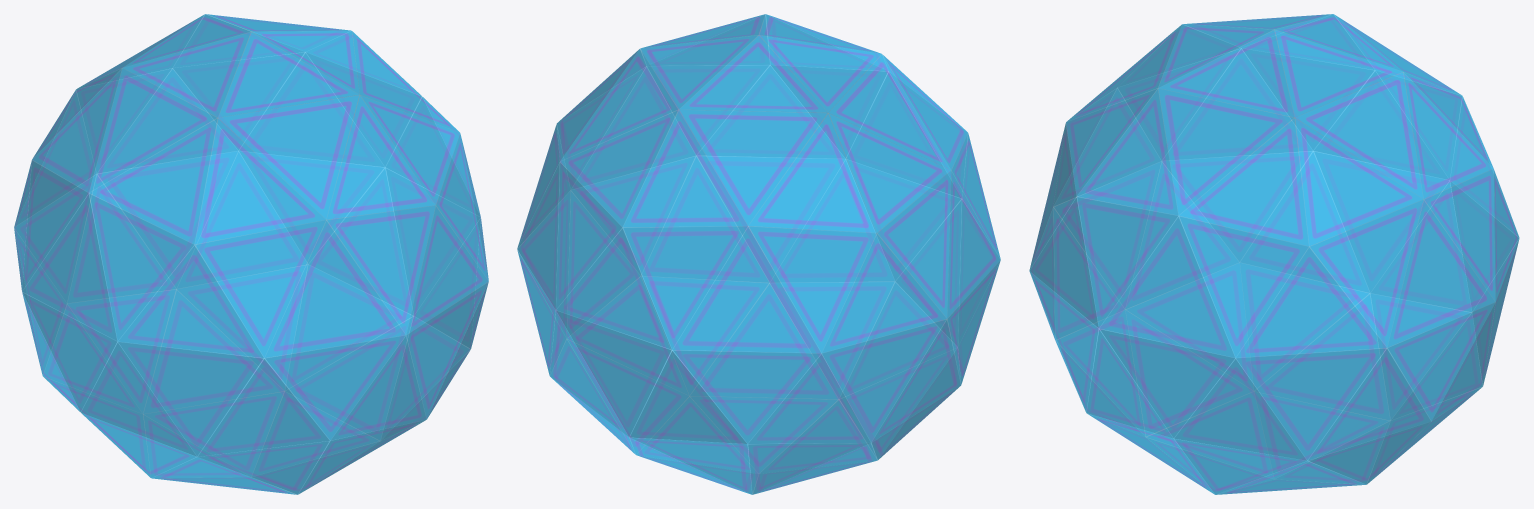
File: force_blast.fbx
3 renders of one model, left to right at view 1: azimuth 30°, elevation 25°; view 2: azimuth 150°, elevation 25°; view 3: azimuth 270°, elevation 25°, orthographic. The views are drawn at different scales.
Visible parts, largest first — view 1: Icosphere; view 2: Icosphere; view 3: Icosphere.
Part boxes in pixels (x1=…): Icosphere: x1=14, y1=14, x2=488, y2=494; Icosphere: x1=517, y1=14, x2=1000, y2=494; Icosphere: x1=1029, y1=14, x2=1519, y2=494.
Bounding box in the file's own units: 5.83 × 5.83 × 5.91.
Materials: 1 (1 with a texture image).
